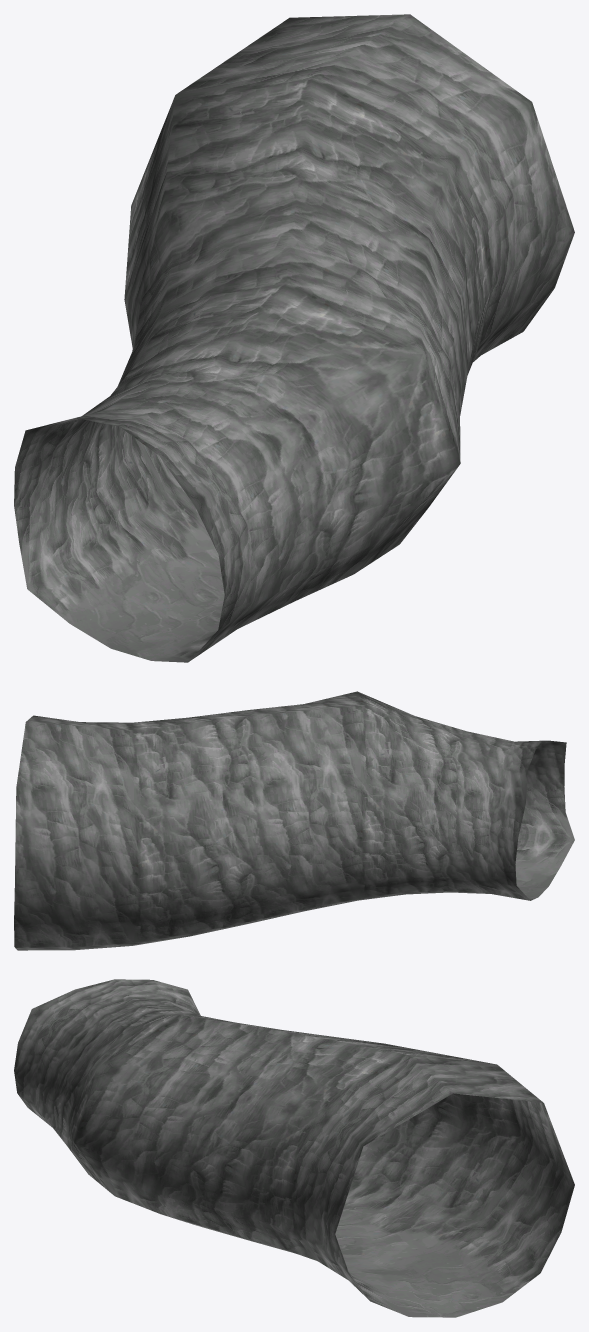
File: SWORDLIGHT20_PS-AREA04_05.fbx
3 renders of one model, top to bottom at view 1: azimuth 30°, elevation 25°; view 2: azimuth 150°, elevation 25°; view 3: azimuth 270°, elevation 25°, orthographic. The views are drawn at different scales.
Visible parts, largest first — view 1: SWORDLIGHT20_PS-AREA04_05; view 2: SWORDLIGHT20_PS-AREA04_05; view 3: SWORDLIGHT20_PS-AREA04_05.
Boxes of the visible parts, x1=… form: SWORDLIGHT20_PS-AREA04_05: x1=14, y1=14, x2=574, y2=662; SWORDLIGHT20_PS-AREA04_05: x1=14, y1=691, x2=574, y2=950; SWORDLIGHT20_PS-AREA04_05: x1=14, y1=979, x2=574, y2=1317.
Size of the model in its own units: 164371 by 78952 by 179847.
Materials: 2 (2 with a texture image).
